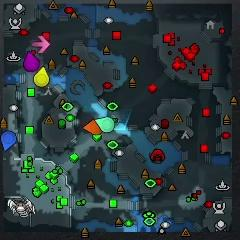p1: (1, 131, 17, 151)
p2: (95, 116, 115, 132)
p3: (24, 51, 40, 71)
p4: (35, 67, 49, 87)
p5: (84, 119, 102, 135)
x1: (32, 36, 50, 52)
